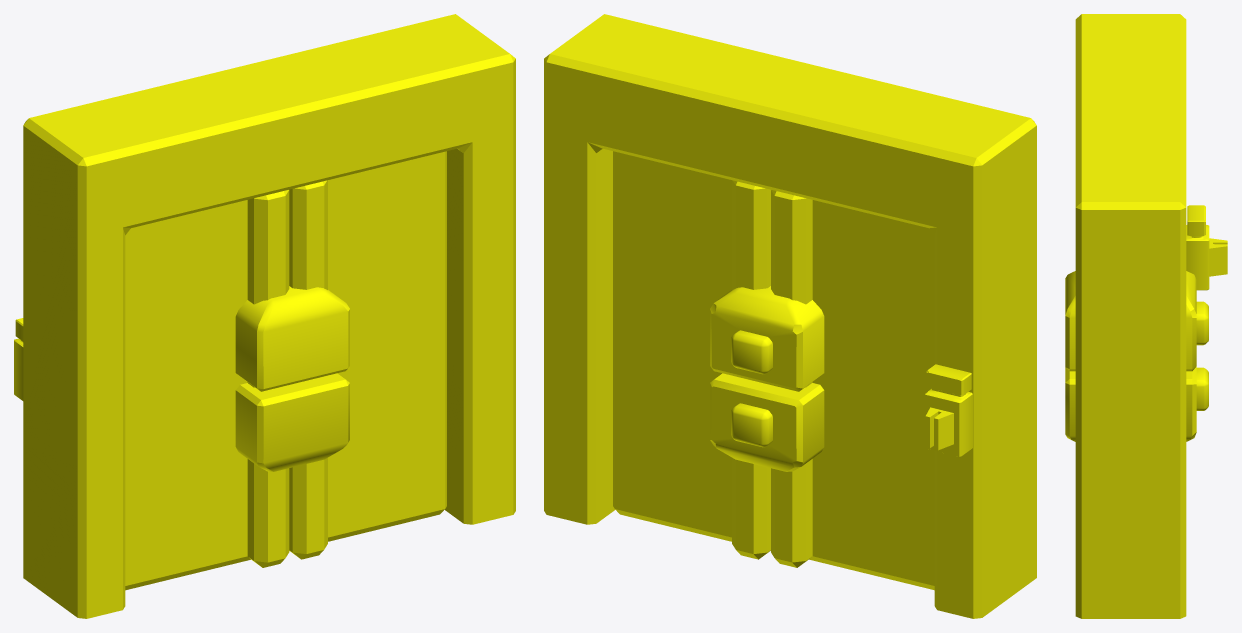
3 views of the same model, side by side, from view 1: azimuth 30°, elevation 25°; view 2: azimuth 150°, elevation 25°; view 3: azimuth 270°, elevation 25° (orthographic). The views are drawn at different scales.
Parts seen in each view (by area): view 1: DoorKeycardGreen_; view 2: DoorKeycardGreen_; view 3: DoorKeycardGreen_.
Boxes of the visible parts, bbox=[...] form: DoorKeycardGreen_: bbox=[14, 14, 515, 618]; DoorKeycardGreen_: bbox=[544, 14, 1036, 618]; DoorKeycardGreen_: bbox=[1065, 14, 1227, 618].
Size of the model in its own units: 0.0148 by 0.015 by 0.00528.
1 material, 1 textured.
